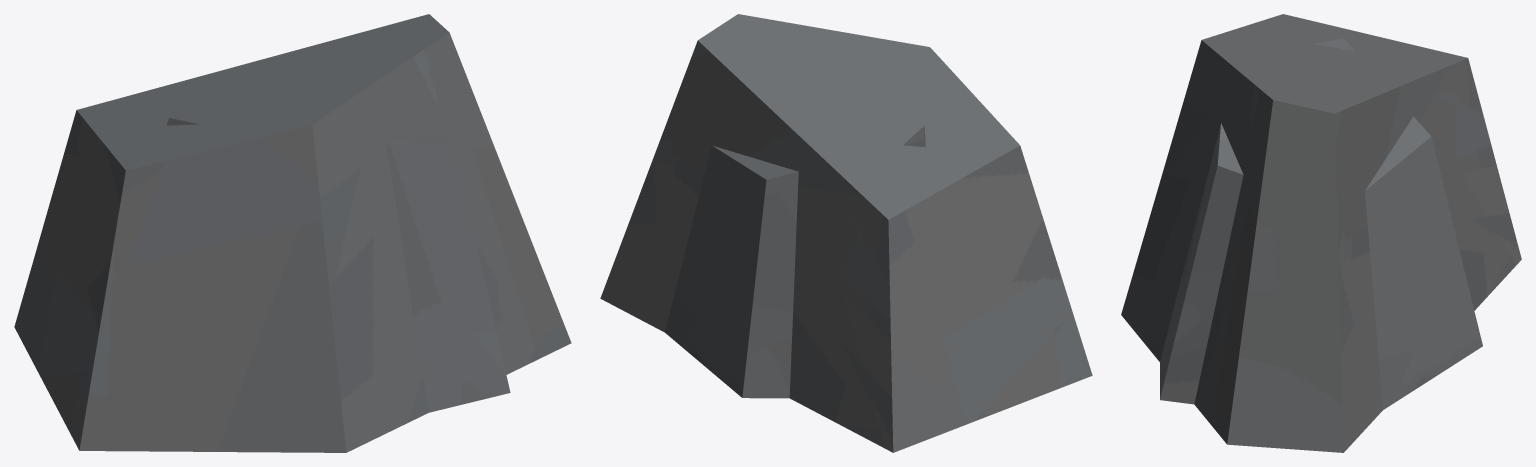
Rendered from bouldersmall.gltf.
3 views of the same model, side by side, from view 1: azimuth 30°, elevation 25°; view 2: azimuth 150°, elevation 25°; view 3: azimuth 270°, elevation 25° (orthographic). The views are drawn at different scales.
Visible parts, largest first — view 1: lod0; view 2: lod0; view 3: lod0.
Part boxes in pixels (x1,y1,x2,y2): lod0: (14,14,571,452); lod0: (600,14,1092,452); lod0: (1121,14,1521,452).
Size of what is drawn, in the model's own units: 0.84 by 0.5112 by 0.62.
1 material, 1 textured.
